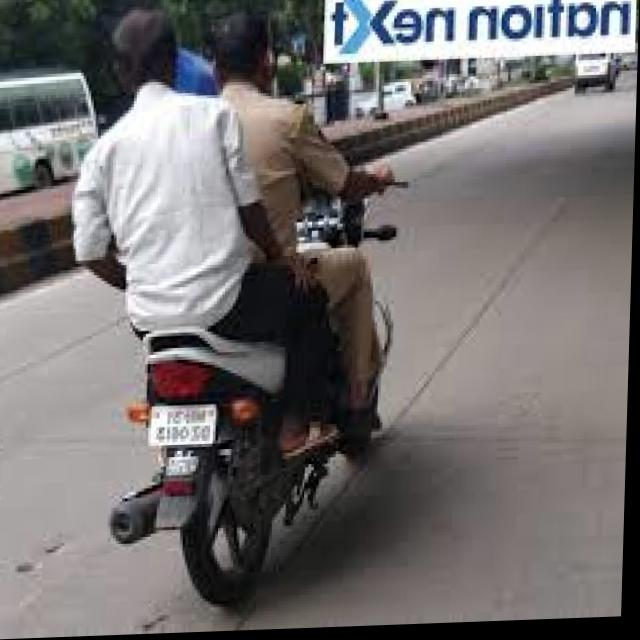without helmet: (102, 3, 289, 111)
